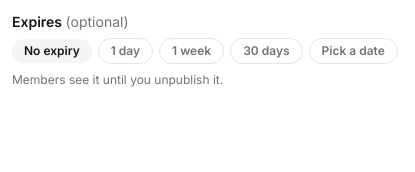
it: AnnouncementExpiryField › turns a quick choice into a real date and time, and says when it ends
The width and height of the screenshot is (415, 172).
Click the radio button labelled "1 week" at x=192, y=51, box [159,38,224,64]
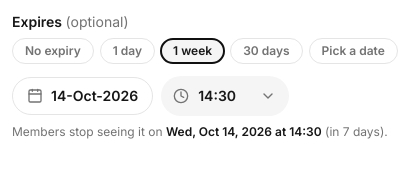
Expected: the dropdown named "Expiry time" reads "14:30", [161,76,289,116]
Expected: the text "Members stop seeing it on" shows "in 7 days", [329,124,380,139]
